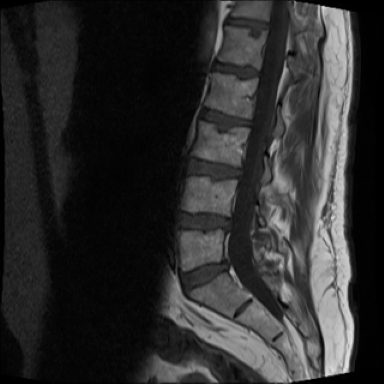Degenerative Disc Disease (DDD): (203, 53, 264, 83), (218, 13, 275, 33)
Lumbar Disc Bulge (LDB): (166, 205, 239, 238)
Normal IVD: (172, 254, 231, 298), (181, 153, 246, 185), (193, 102, 257, 133)
